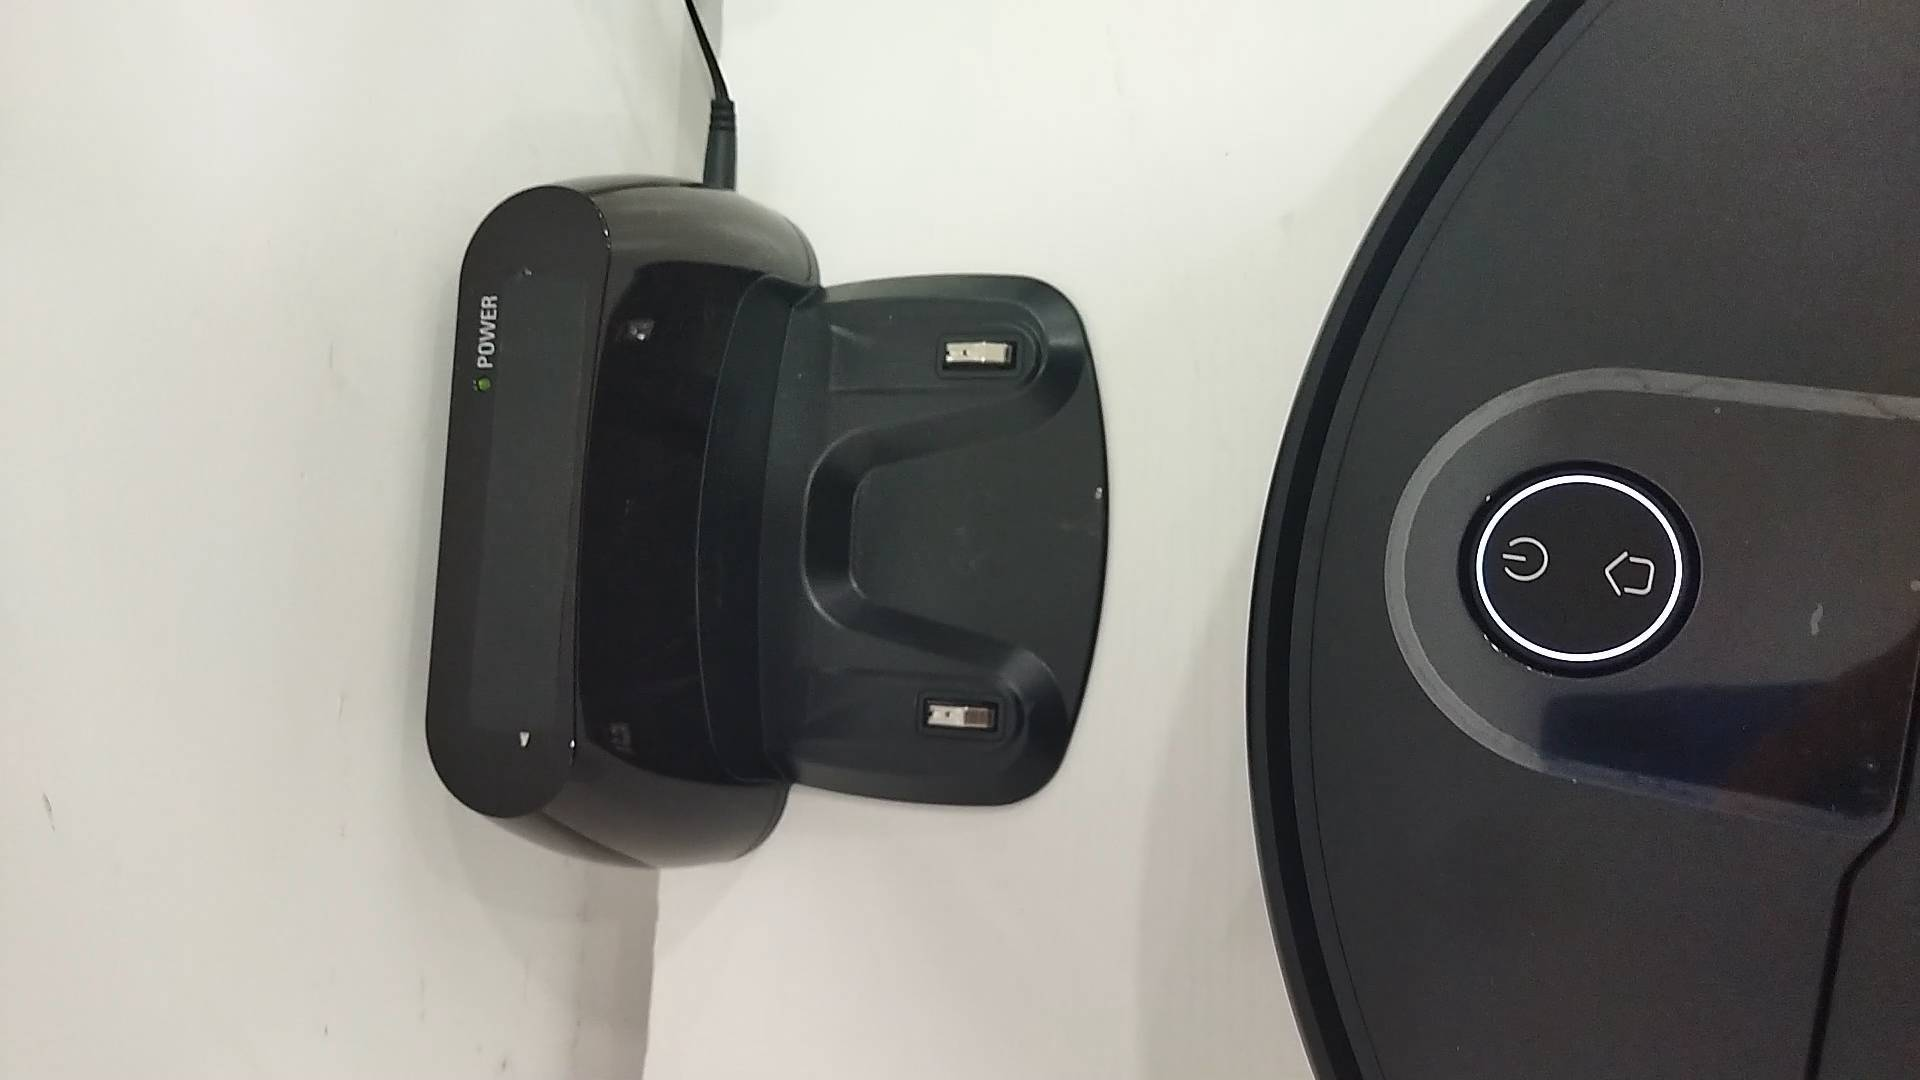recharge seat: (423, 173, 1110, 868)
